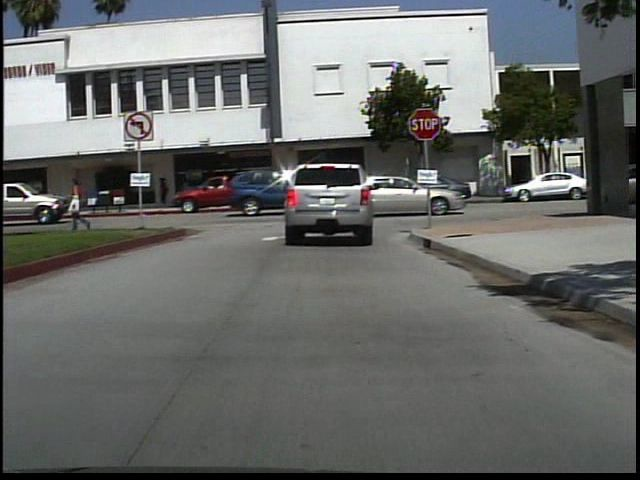person: (66, 174, 102, 234), (290, 162, 319, 234), (156, 172, 175, 209), (177, 173, 196, 208)
